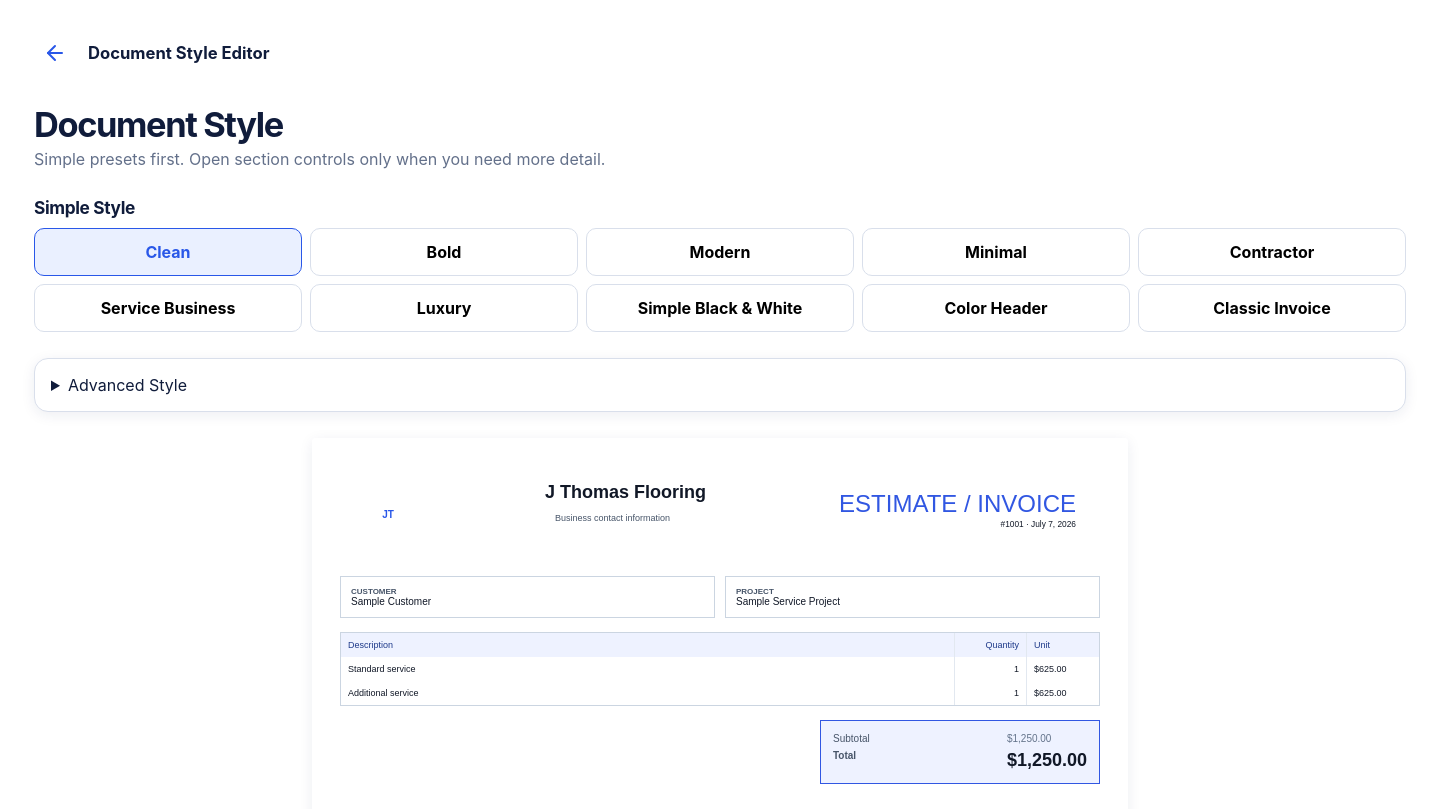
Test case: Document Style Editor › renders separate table, row, totals, and notes controls
Click the heading "Advanced Style" at (127, 385), box left=68, top=375, right=187, bottom=395
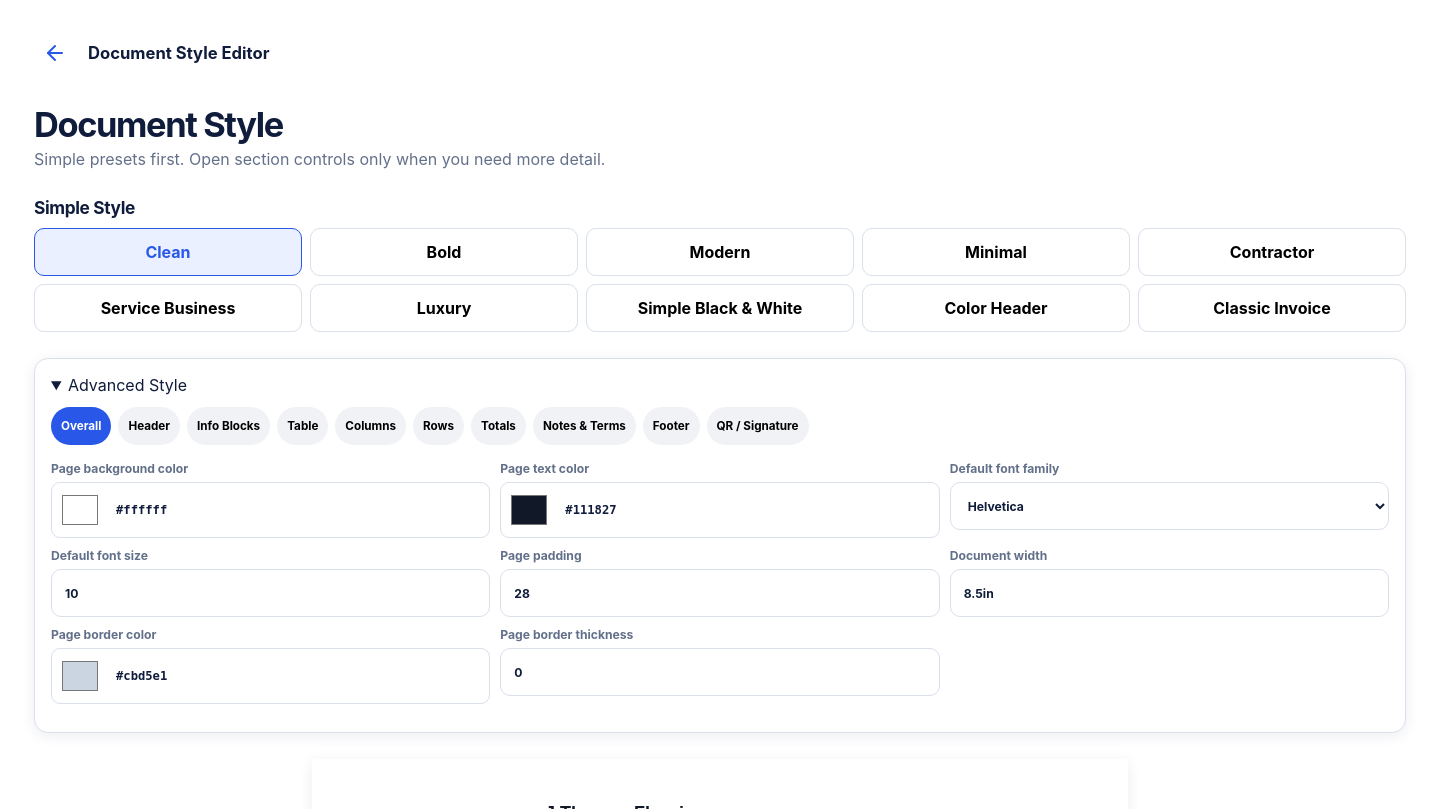
Click the button "Table" at (303, 426), box left=277, top=407, right=328, bottom=445
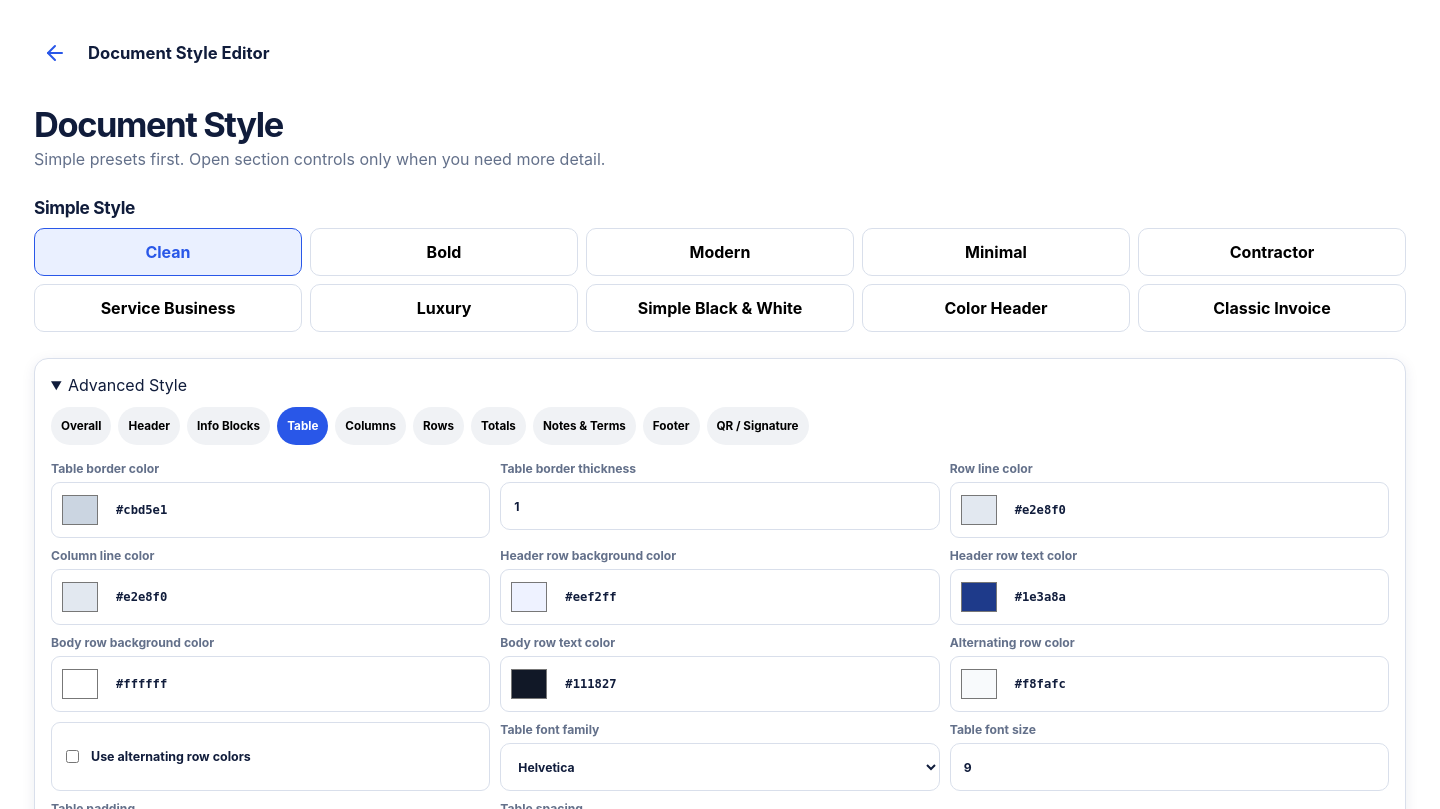
Check: the text "Header row background color" is shown, box left=500, top=548, right=676, bottom=563
Check: the text "Body row background color" is shown, box left=51, top=635, right=214, bottom=650
Check: the text "Row line color" is shown, box left=950, top=461, right=1033, bottom=476
Click the button "Rows" at (438, 426), box left=413, top=407, right=464, bottom=445
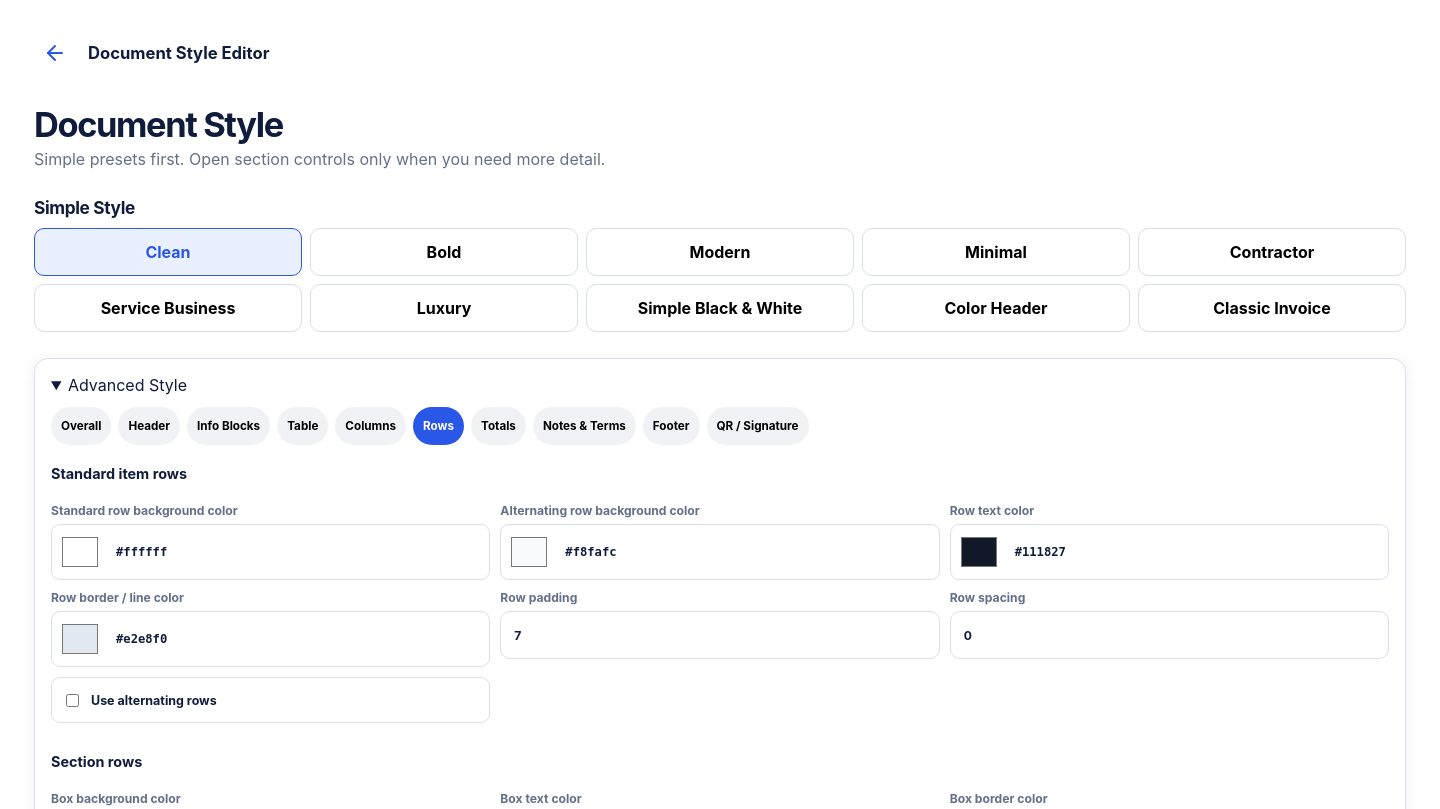
Check: the text "Standard row background color" is shown, box left=51, top=503, right=238, bottom=518
Click the button "Totals" at (498, 426), box left=471, top=407, right=526, bottom=445
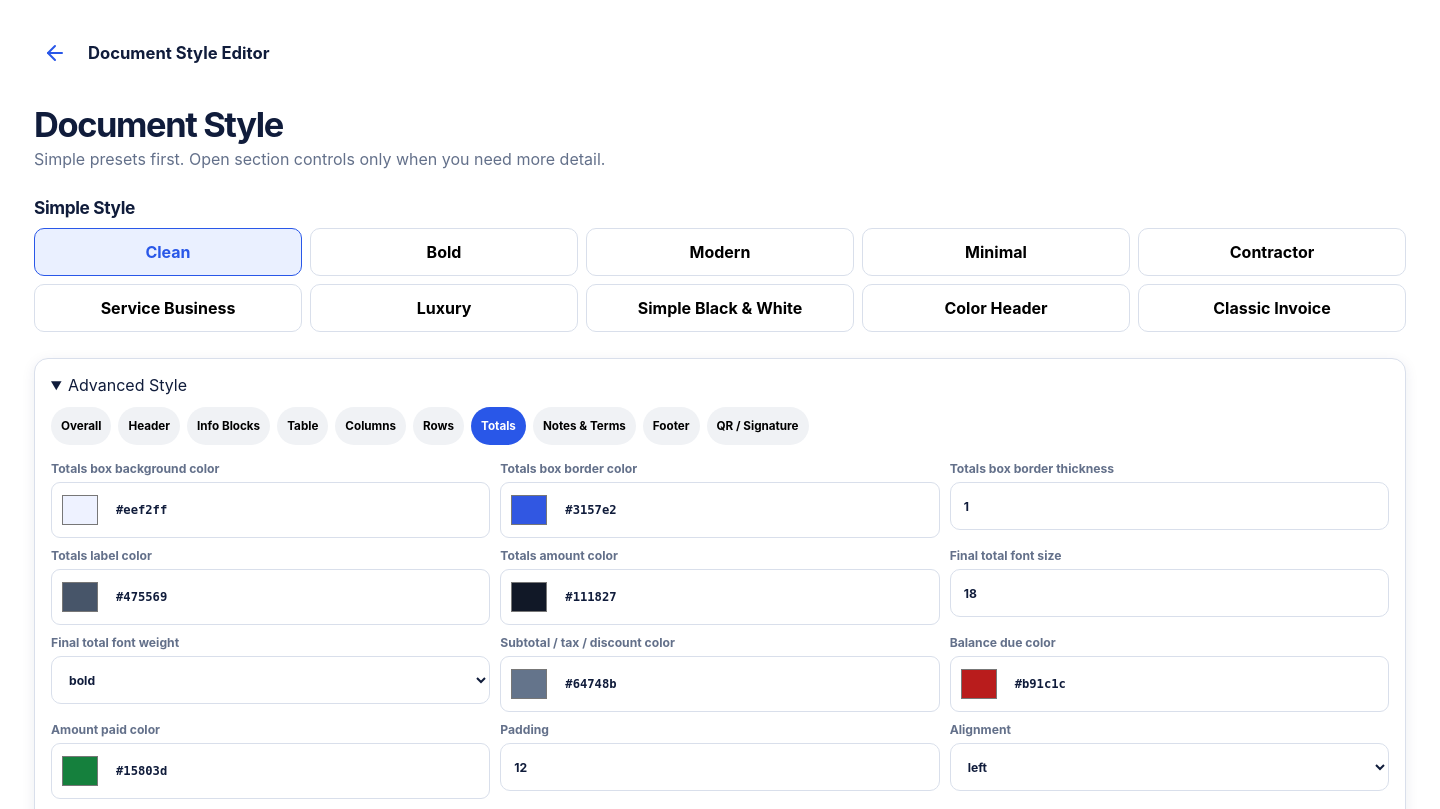
Check: the text "Balance due color" is shown, box left=950, top=635, right=1056, bottom=650
Check: the text "Amount paid color" is shown, box left=51, top=722, right=160, bottom=737
Click the button "Notes & Terms" at (584, 426), box left=533, top=407, right=636, bottom=445
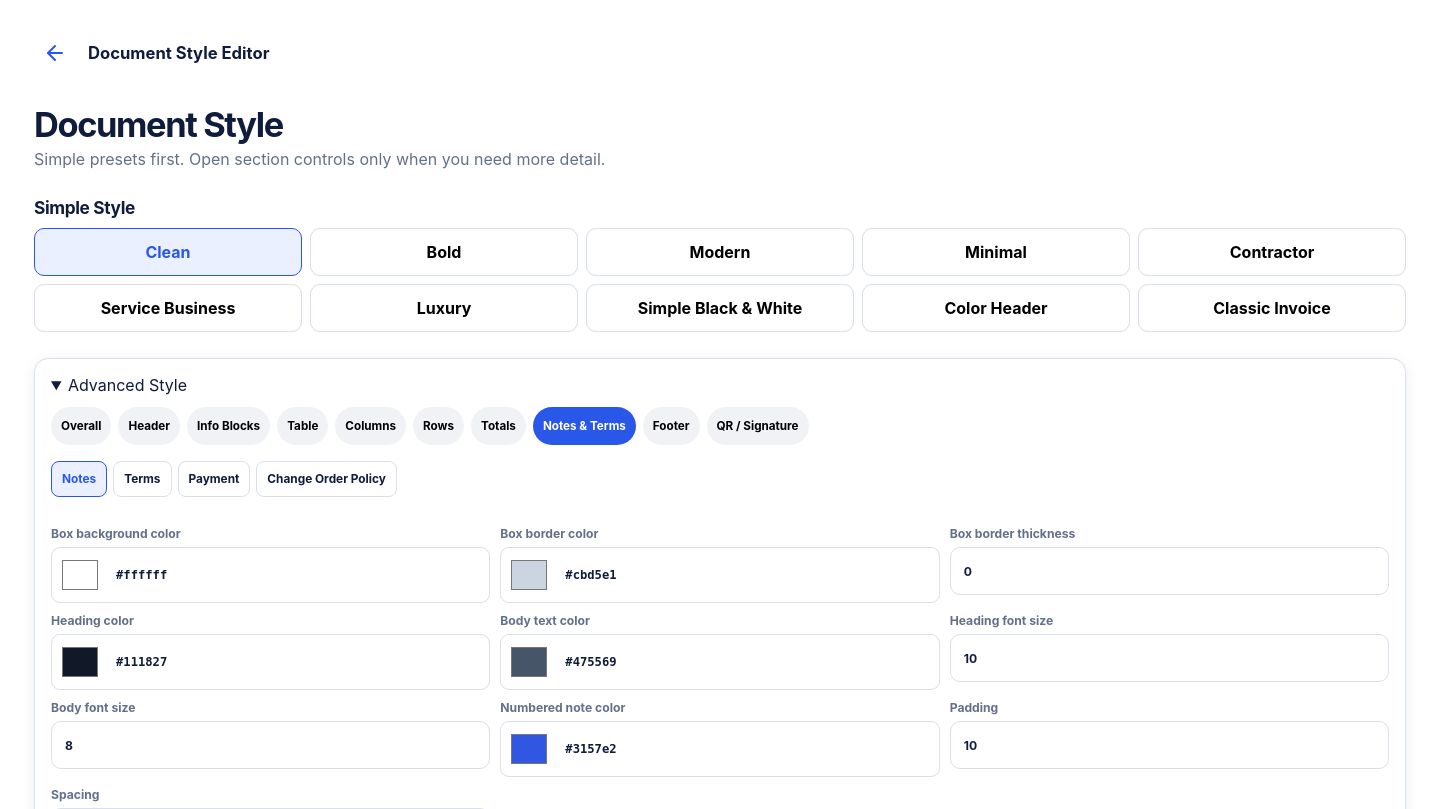
Check: the button "Change Order Policy" is shown, box left=256, top=461, right=397, bottom=497
